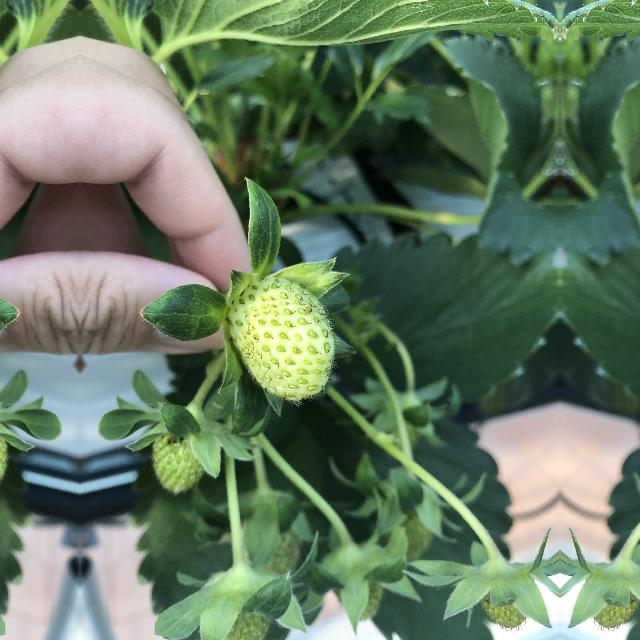Health_25: (221, 273, 343, 402)
